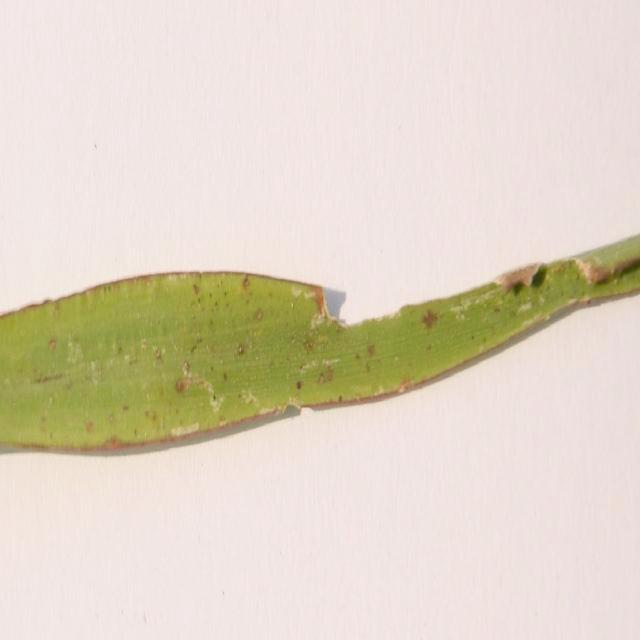Leafsmut: (342, 344, 380, 384), (574, 258, 615, 285), (614, 250, 640, 279), (65, 338, 85, 367), (309, 306, 331, 331), (237, 388, 259, 410), (207, 388, 226, 413), (384, 304, 410, 322), (280, 395, 304, 414), (547, 260, 572, 278), (530, 264, 548, 288), (31, 372, 65, 384), (173, 422, 201, 435), (421, 310, 438, 329), (161, 272, 190, 283), (175, 377, 192, 394), (256, 405, 280, 417), (300, 288, 319, 303), (510, 279, 526, 296), (104, 437, 124, 448), (449, 302, 467, 314), (399, 376, 413, 390), (321, 367, 334, 382), (290, 286, 306, 298), (181, 361, 192, 377), (51, 303, 62, 319), (322, 358, 341, 367), (144, 410, 158, 422), (193, 293, 204, 308), (518, 302, 532, 313), (90, 360, 98, 378), (565, 297, 581, 306), (154, 349, 164, 363), (253, 309, 264, 321), (192, 271, 203, 283), (304, 340, 314, 353), (190, 342, 200, 354), (454, 311, 466, 321), (217, 418, 229, 428), (101, 283, 111, 295), (192, 283, 201, 296), (242, 276, 251, 289), (140, 338, 148, 352), (236, 344, 245, 356), (85, 421, 94, 433), (107, 413, 116, 424), (208, 316, 215, 330), (48, 339, 56, 351), (3, 377, 12, 387), (368, 345, 376, 356), (295, 380, 303, 390), (65, 381, 73, 391), (212, 300, 220, 310), (542, 314, 552, 322), (116, 345, 124, 354), (124, 353, 131, 363), (47, 396, 54, 406), (493, 306, 501, 314), (585, 298, 593, 306), (222, 372, 228, 382), (122, 404, 129, 412), (40, 416, 47, 423), (212, 393, 218, 401), (426, 344, 432, 352), (355, 353, 361, 360), (338, 395, 343, 403), (290, 302, 295, 310), (470, 334, 476, 340), (223, 290, 228, 297), (134, 428, 138, 436)
